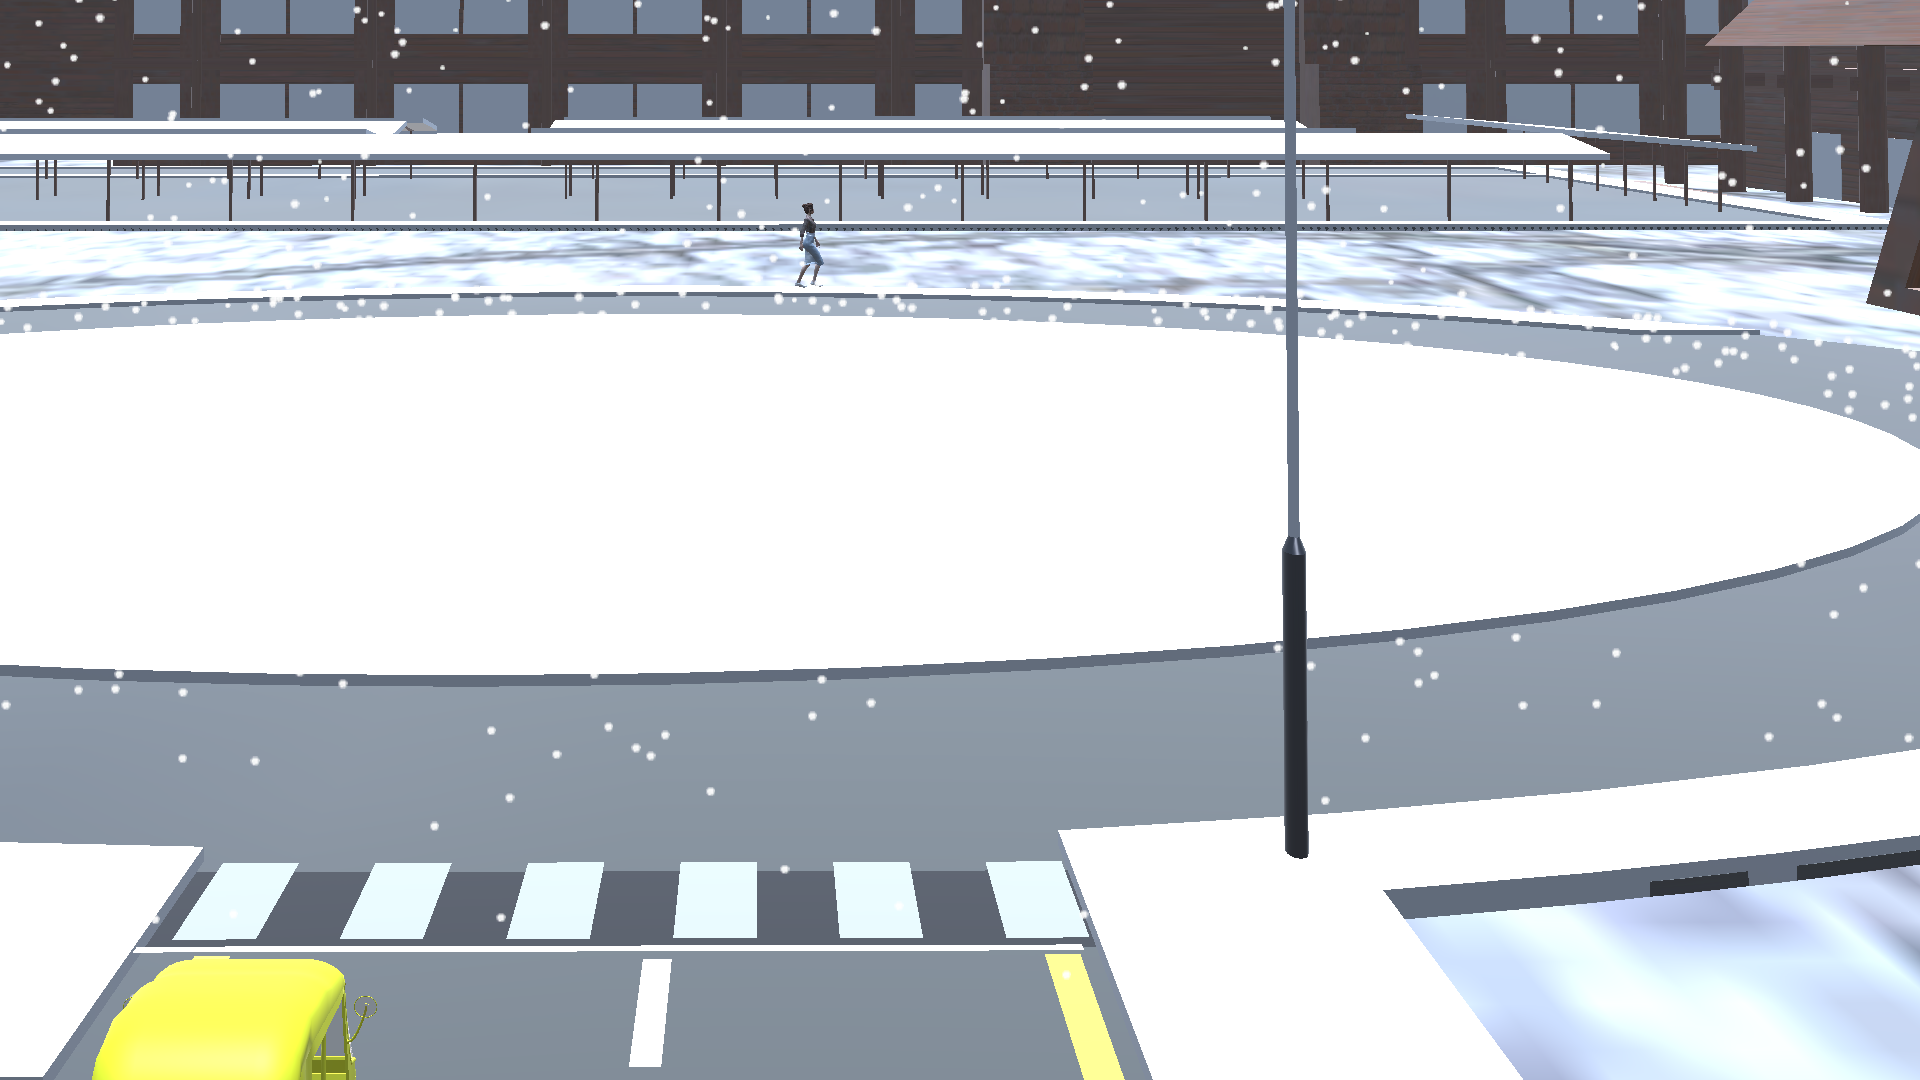pedestrian: (786, 199, 825, 294)
